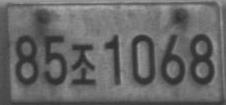0: (130, 33, 156, 85)
1: (101, 33, 125, 86)
5: (43, 35, 68, 85)
6: (159, 33, 186, 85)
8: (188, 32, 215, 85), (14, 33, 39, 85)
조: (70, 43, 96, 86)
